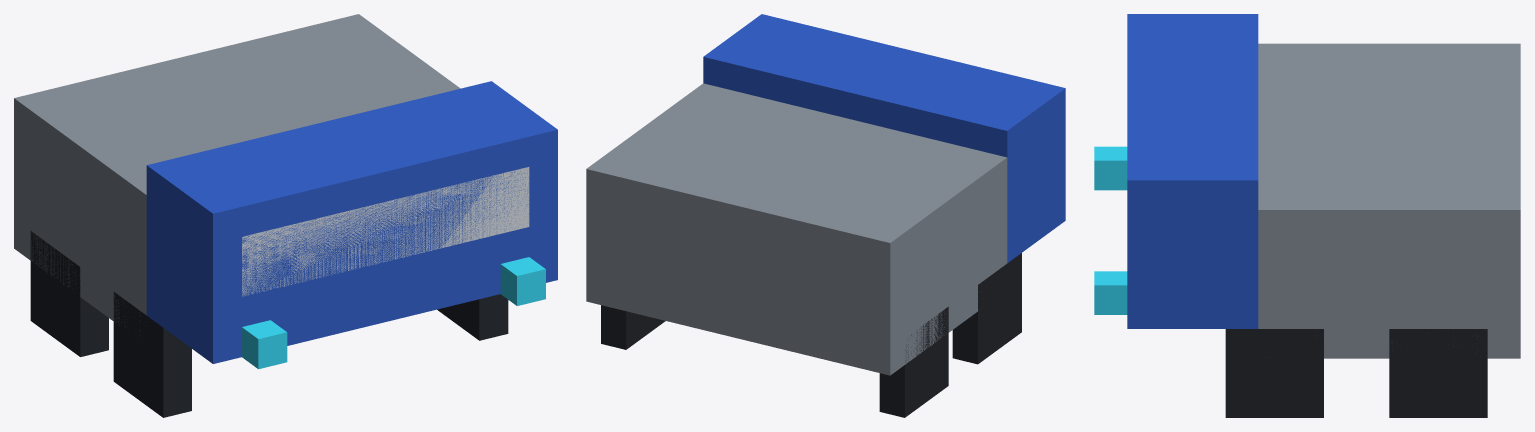
File: veh_transport.glb
3 renders of one model, left to right at view 1: azimuth 30°, elevation 25°; view 2: azimuth 150°, elevation 25°; view 3: azimuth 270°, elevation 25°, orthographic. The views are drawn at different scales.
Parts seen in each view (by area): view 1: Cab mesh, Cargo mesh, Glass mesh, Wheel mesh, Light mesh; view 2: Cargo mesh, Cab mesh, Wheel mesh; view 3: Cargo mesh, Cab mesh, Wheel mesh, Light mesh.
Boxes of the visible parts, x1,y1,x2,y2 form: Cab mesh: (146, 81, 557, 363); Cargo mesh: (14, 14, 460, 333); Glass mesh: (242, 167, 529, 296); Wheel mesh: (30, 231, 508, 417); Light mesh: (242, 257, 545, 369); Cargo mesh: (586, 83, 1007, 375); Cab mesh: (703, 14, 1065, 262); Wheel mesh: (601, 253, 1021, 417); Cargo mesh: (1258, 43, 1520, 358); Cab mesh: (1127, 14, 1258, 328); Wheel mesh: (1225, 329, 1487, 417); Light mesh: (1094, 146, 1127, 314).
Bounding box in the file's own units: 12 × 8 × 13.
1 material, 1 textured.
